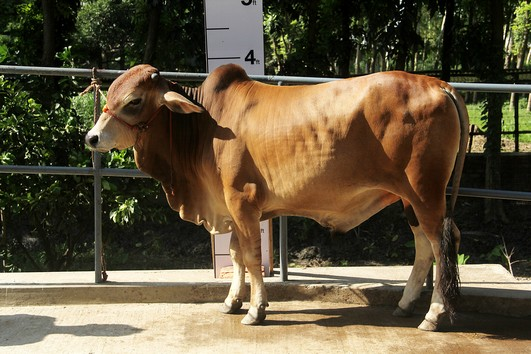cow: (81, 53, 475, 333)
